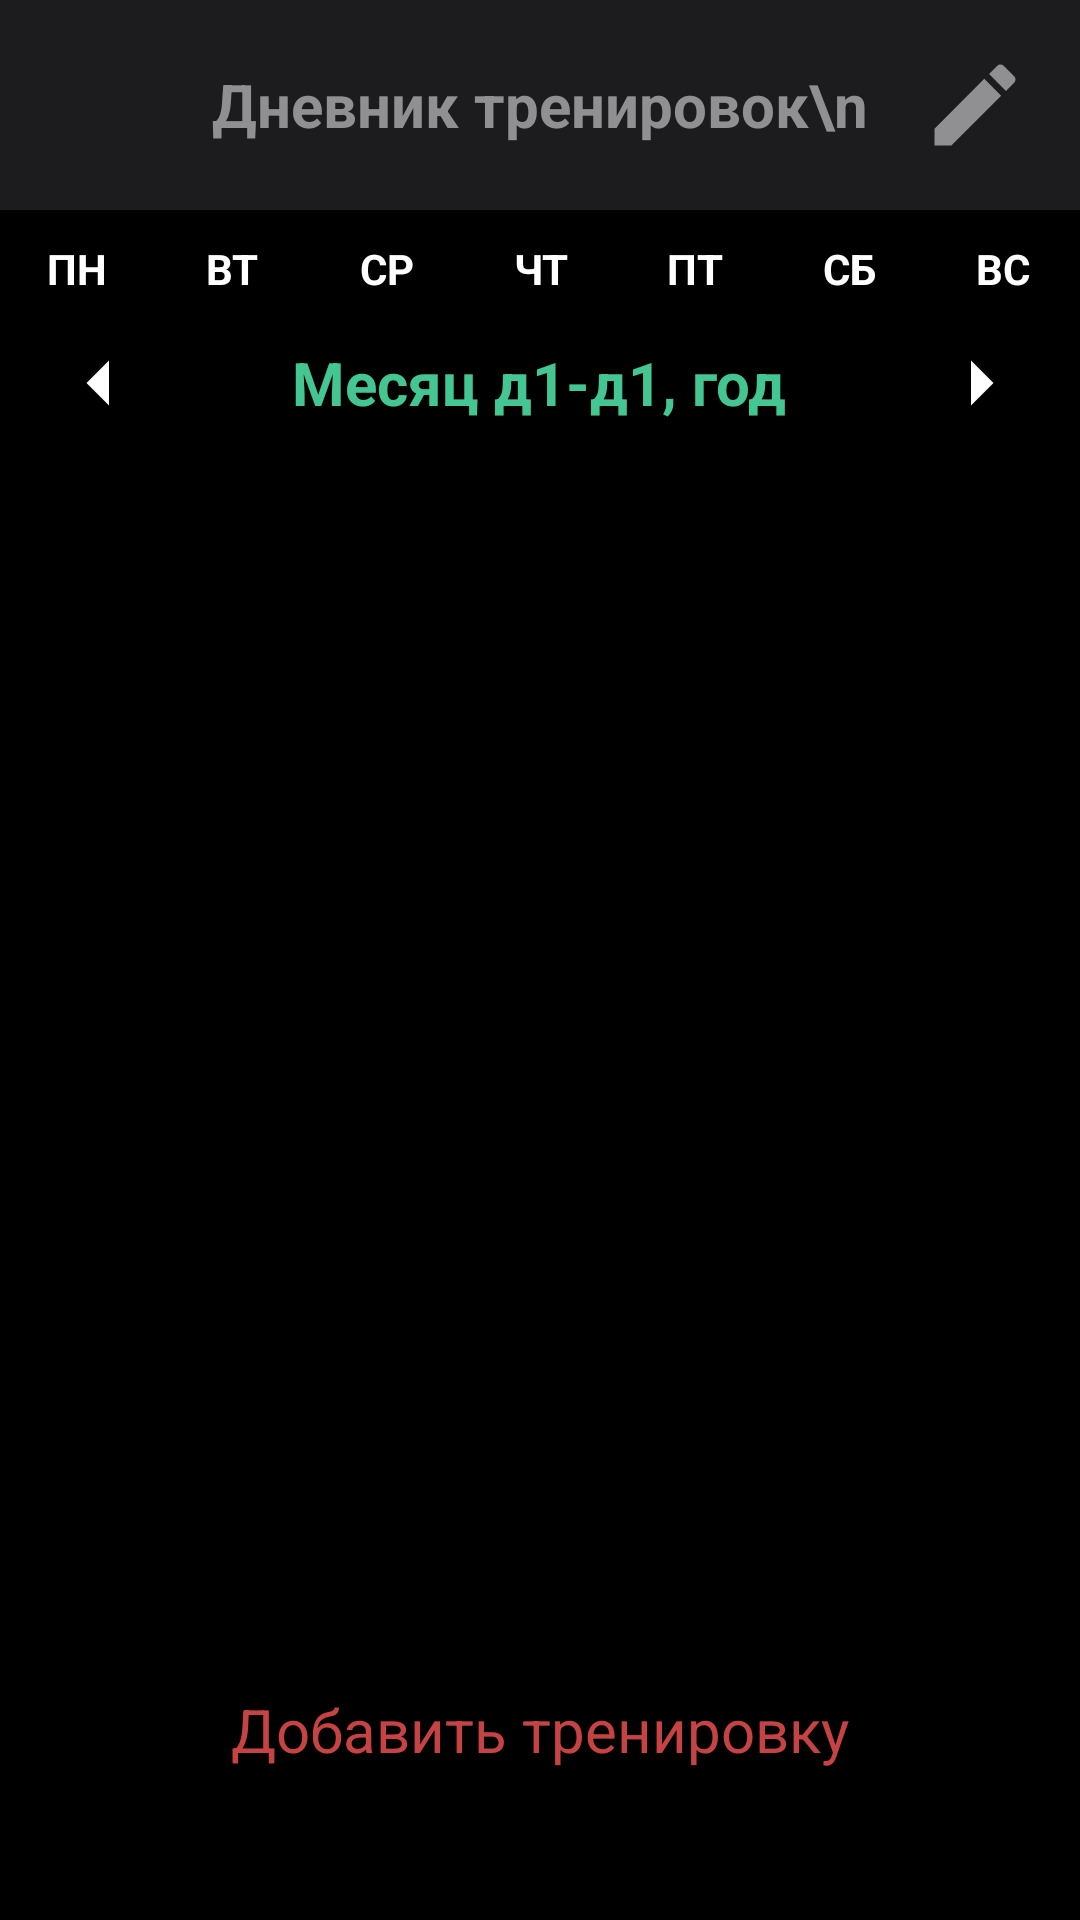

Icons on this 1080*1920 Android screen, each with the point to tap as point (x, y):
arrow left: point (97, 383)
arrow right: point (982, 383)
edit: point (975, 105)
